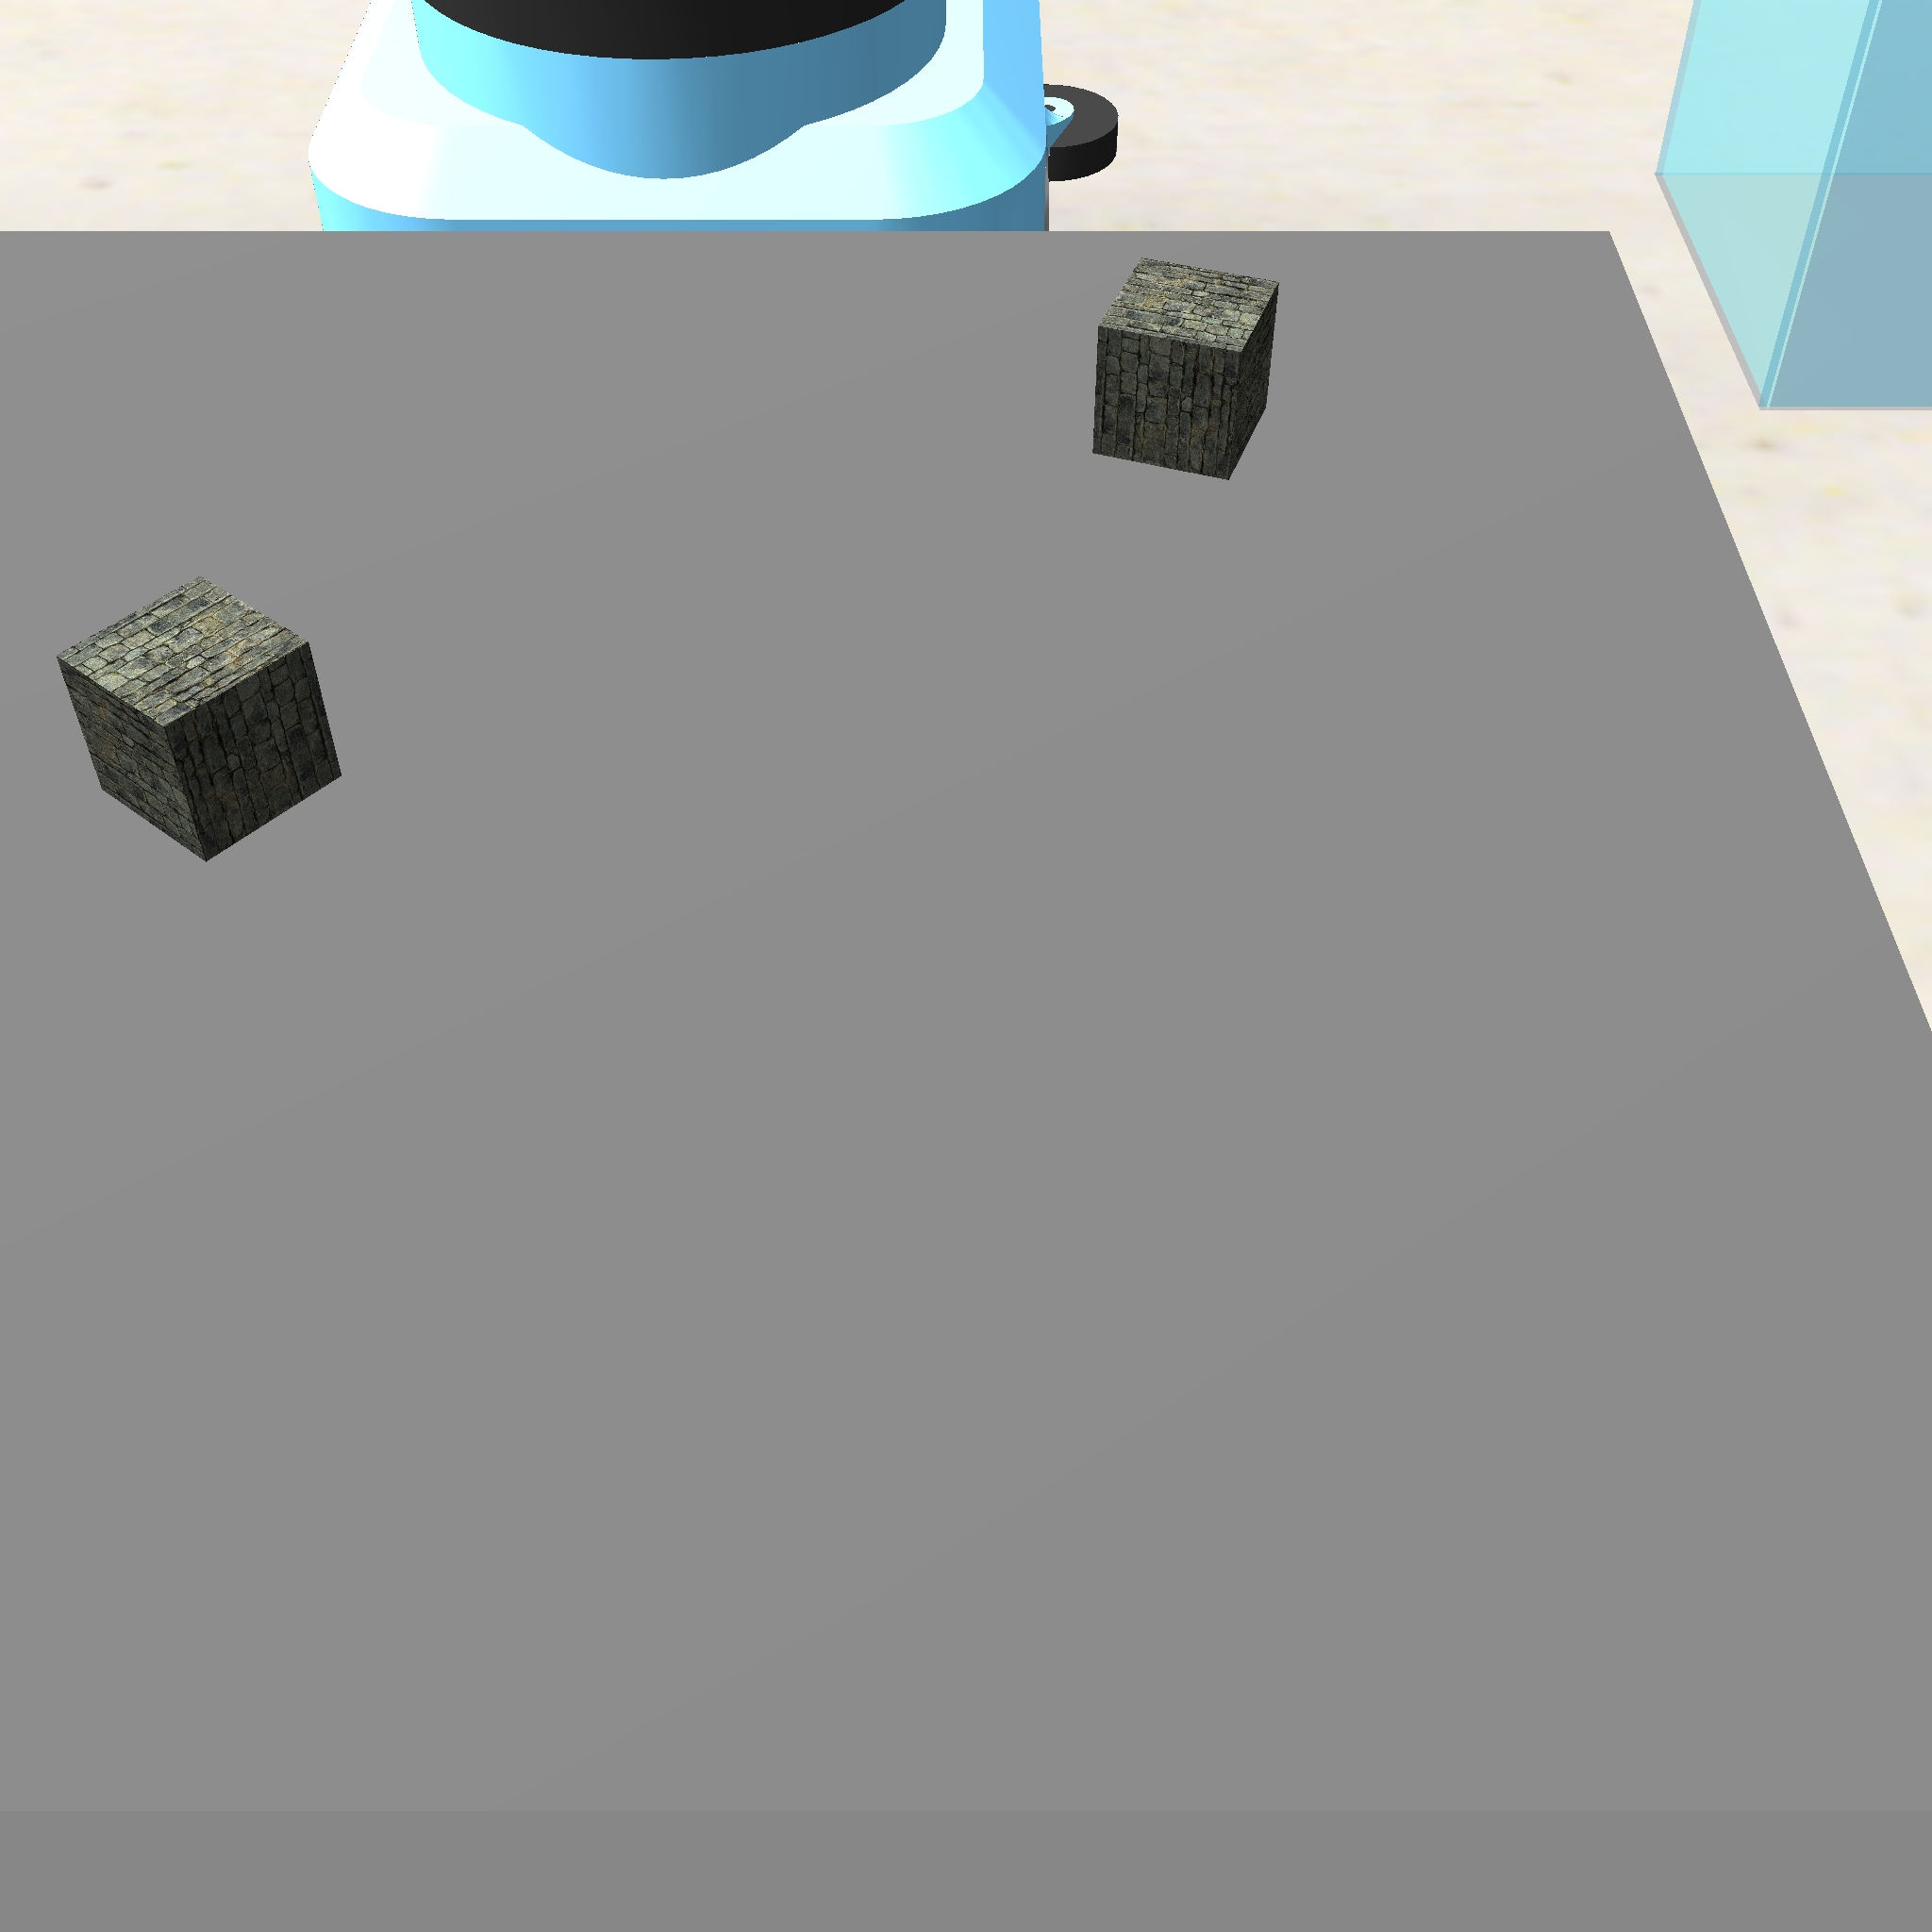cube: (50, 566, 356, 872), (1086, 248, 1284, 492)
